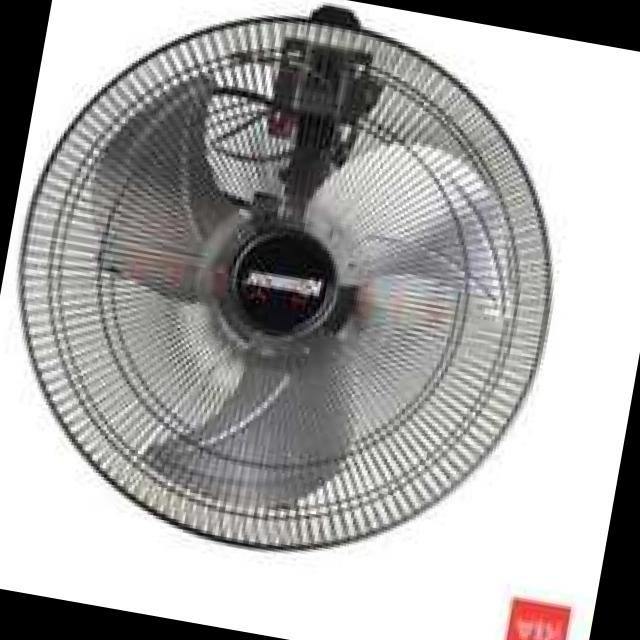fan: (0, 0, 601, 602)
